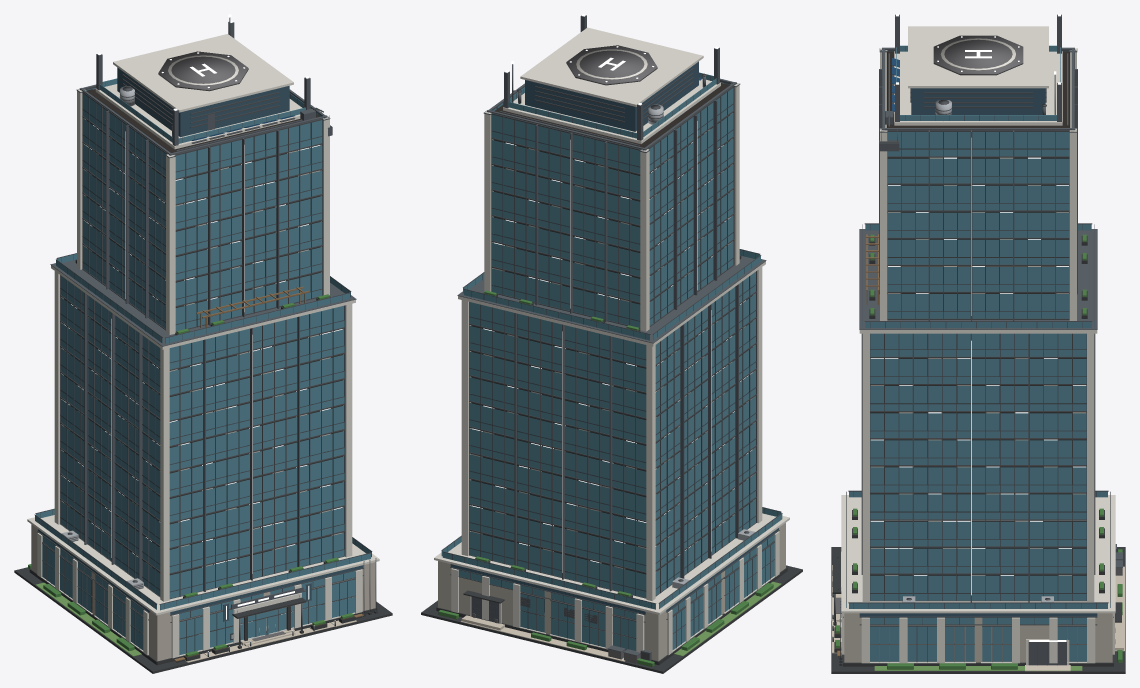
The model's file is glass_tower.glb.
3 renders of one model, left to right at view 1: azimuth 30°, elevation 25°; view 2: azimuth 150°, elevation 25°; view 3: azimuth 270°, elevation 25°, orthographic. The views are drawn at different scales.
Parts seen in each view (by area): view 1: Merged_TowerGlass, Merged_WindowFrame, Merged_TowerTrim, Merged_TowerMetal, Merged_TowerSpandrel, Merged_VillaGranite, Merged_VillaInterior, Merged_RoofDark, tower_podium, Merged_LampGlow, Merged_VillaHedge, Merged_VillaWood (+3 smaller); view 2: Merged_TowerGlass, Merged_WindowFrame, Merged_TowerTrim, Merged_TowerMetal, Merged_TowerSpandrel, Merged_VillaInterior, tower_podium, Merged_VillaGranite, Merged_RoofDark, Merged_LampGlow, Merged_VillaHedge, Merged_VillaPavement (+2 smaller); view 3: Merged_TowerGlass, Merged_TowerTrim, Merged_WindowFrame, Merged_TowerMetal, Merged_VillaInterior, Merged_TowerSpandrel, Merged_VillaGranite, tower_podium, Merged_RoofDark, Merged_LampGlow, Merged_VillaHedge, Merged_VillaPavement (+3 smaller).
Boxes of the visible parts, x1,y1,x2,y2 form: Merged_TowerGlass: (35,78,371,655); Merged_WindowFrame: (34,74,372,652); Merged_TowerTrim: (27,34,379,658); Merged_TowerMetal: (50,17,376,656); Merged_TowerSpandrel: (38,67,363,621); Merged_VillaGranite: (14,259,392,673); Merged_VillaInterior: (64,89,351,639); Merged_RoofDark: (158,51,285,641); tower_podium: (31,524,375,661); Merged_LampGlow: (64,14,342,651); Merged_VillaHedge: (28,294,353,656); Merged_VillaWood: (174,286,363,661); Merged_TowerGlass: (441,72,782,650); Merged_WindowFrame: (441,68,782,660); Merged_TowerTrim: (434,27,789,655); Merged_TowerMetal: (457,15,766,660); Merged_TowerSpandrel: (450,61,778,614); Merged_VillaInterior: (471,83,752,638); tower_podium: (438,523,785,661); Merged_VillaGranite: (421,255,802,673); Merged_RoofDark: (472,45,657,663); Merged_LampGlow: (471,14,752,572); Merged_VillaHedge: (438,290,773,666); Merged_VillaPavement: (460,615,625,661); Merged_TowerGlass: (846,45,1110,661); Merged_TowerTrim: (841,26,1115,665); Merged_WindowFrame: (843,46,1113,665); Merged_TowerMetal: (832,14,1122,665); Merged_VillaInterior: (870,51,1086,592); Merged_TowerSpandrel: (859,88,1097,616); Merged_VillaGranite: (831,236,1125,673); tower_podium: (844,613,1112,662); Merged_RoofDark: (836,35,1122,643); Merged_LampGlow: (832,14,1086,641); Merged_VillaHedge: (835,234,1122,669); Merged_VillaPavement: (831,565,1124,671).
Size of the model in its own units: 34 by 72.9 by 34.
